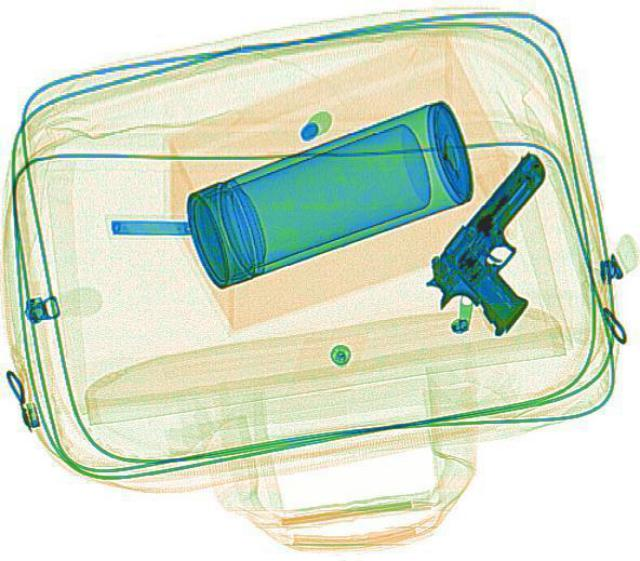Gun: (406, 146, 616, 337)
